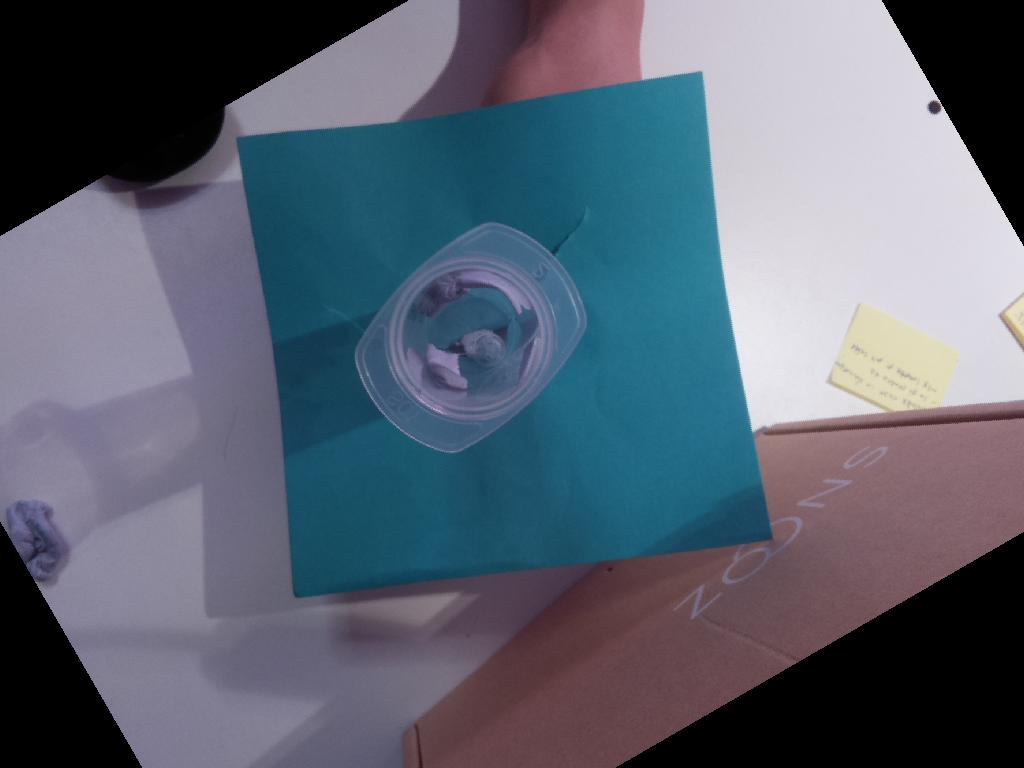dirty: (354, 221, 586, 455)
